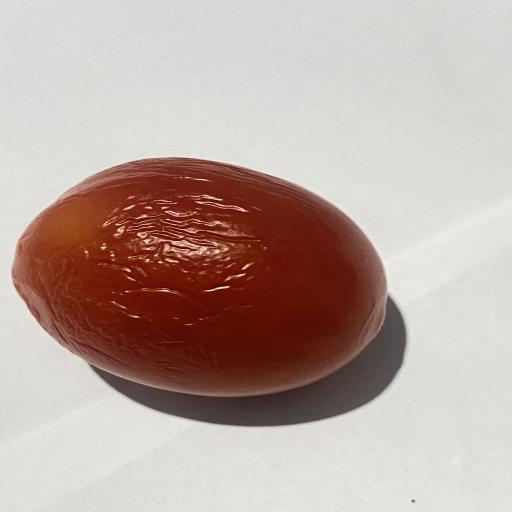spoiled: (12, 158, 387, 396)
